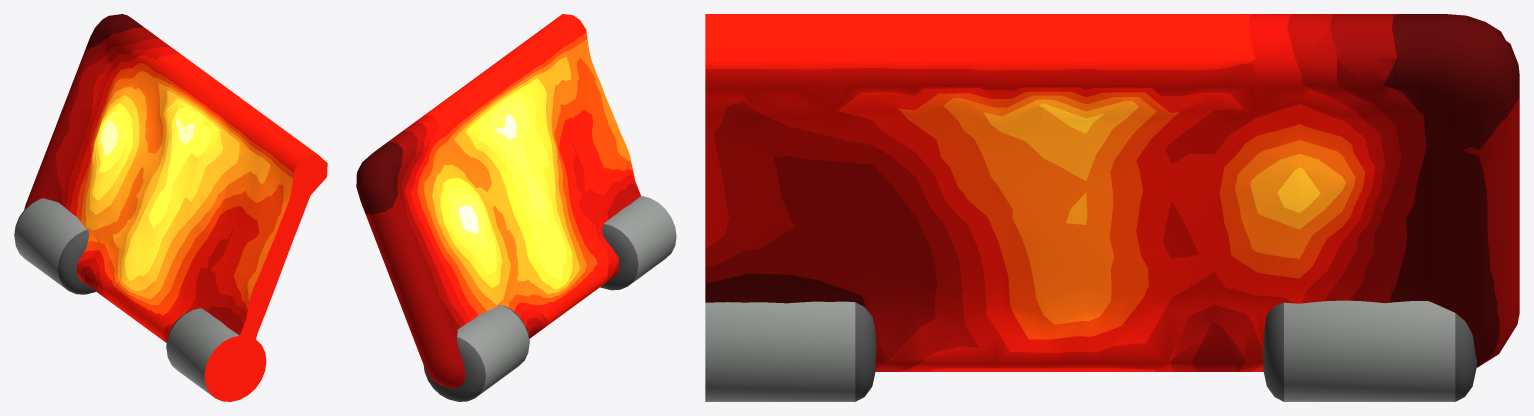
Rendered from fire_flap_235.glb.
3 views of the same model, side by side, from view 1: azimuth 30°, elevation 25°; view 2: azimuth 150°, elevation 25°; view 3: azimuth 270°, elevation 25° (orthographic). The views are drawn at different scales.
Parts seen in each view (by area): view 1: flap.001, knuckle1.001, knuckle0.001; view 2: flap.001, knuckle0.001, knuckle1.001; view 3: flap.001, knuckle0.001, knuckle1.001.
Part boxes in pixels (bbox=[...]): flap.001: bbox=[24, 14, 327, 387]; knuckle1.001: bbox=[166, 308, 266, 401]; knuckle0.001: bbox=[14, 198, 95, 294]; flap.001: bbox=[356, 14, 640, 388]; knuckle0.001: bbox=[423, 305, 529, 401]; knuckle1.001: bbox=[600, 196, 676, 290]; flap.001: bbox=[705, 14, 1519, 371]; knuckle0.001: bbox=[1263, 300, 1476, 401]; knuckle1.001: bbox=[705, 301, 876, 401].
Size of the model in its own units: 6.55 by 11.57 by 19.
